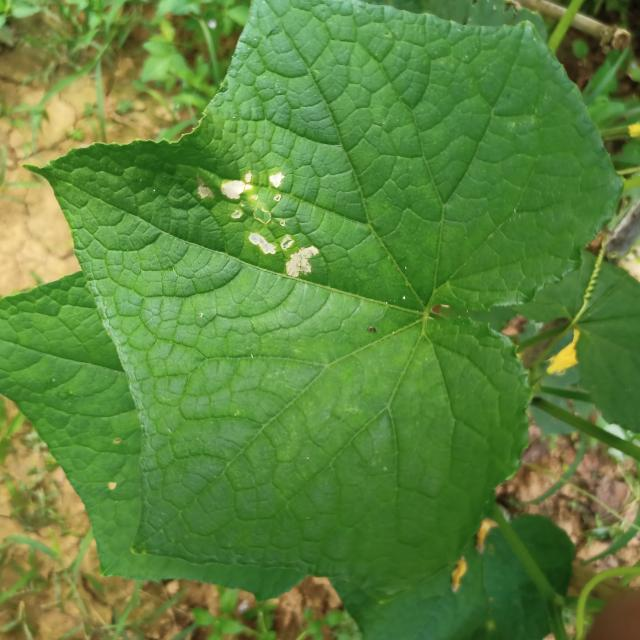disease_cucumber: (196, 167, 323, 284)
